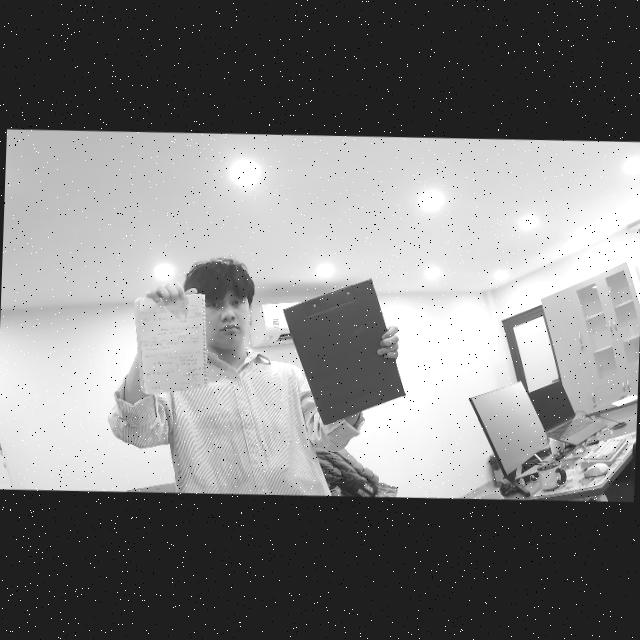document: (134, 294, 208, 394)
face: (206, 287, 256, 348)
